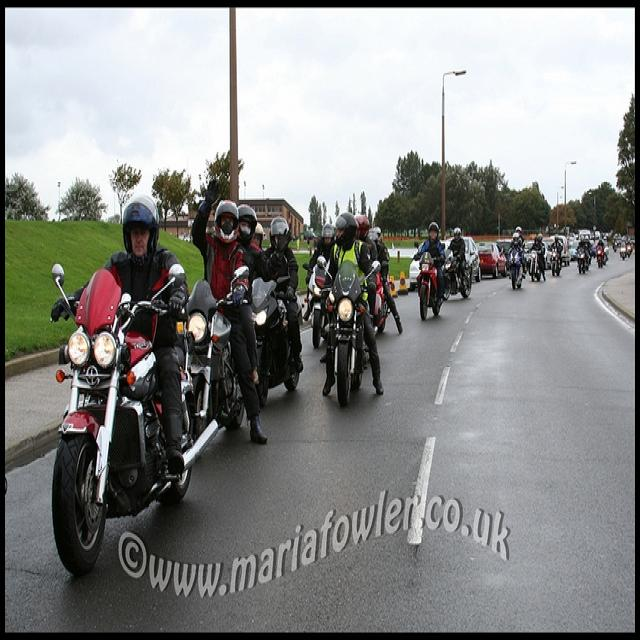motor: (51, 264, 219, 575), (315, 257, 384, 406), (186, 279, 247, 439), (252, 269, 306, 406), (414, 243, 447, 319), (303, 263, 328, 347), (443, 248, 473, 301), (506, 241, 525, 290), (547, 245, 563, 277), (529, 249, 542, 282), (577, 249, 590, 275), (595, 247, 609, 268)
